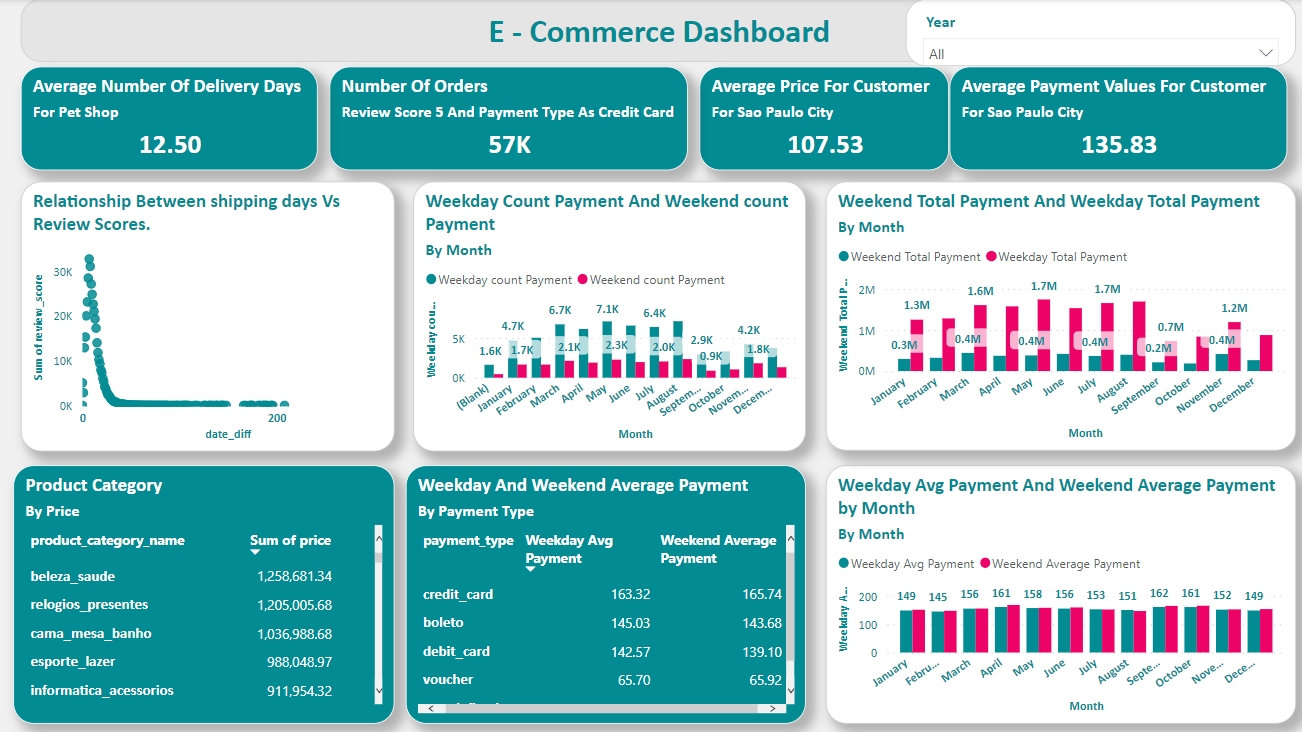

Layout of this report page (visuals, bound fields, positions):
{"tool":"tableau","page":{"name":"Dashboard","canvas":[1000,1000],"units":"permille","ordinal":0},"visuals":[{"type":"image","param":"C:/Users/harsh/Downloads/360_F_508881346_Y8NPkWuFIspsIucnv2mn43U8FcLxL3XB.jpg","box":[6,11.8,987.9,976.4]},{"type":"text","box":[25.7,30.9,677,70.7]},{"type":"legend","title":"Number of Orders with review score 5 and payment type as credit card.","param":"[federated.0kb4xcv0bs3o0s12nhn910ljtiwo].[cnt:order_id (3. olist!order!reviews!d","box":[859.6,33.9,127.5,111.9]},{"type":"worksheet","title":"Weekday Vs Weekend (order_purchase_timestamp) Payment Statistics","mark":"Automatic","rows":["Weekdays/Weekends"],"cols":["payment_value"],"box":[24.9,107.5,332.8,332.8]},{"type":"worksheet","title":"Relationship between shipping days (order_delivered_customer_date - order_purchase_timestamp) Vs review scores.","mark":"Bar","rows":["order_estimated_delivery_date","order_purchase_timestamp","order_purchase_timestamp","order_purchase_timestamp"],"cols":["review_score"],"box":[362.3,111.9,493.6,508.1]},{"type":"filter","title":"Number of Orders with review score 5 and payment type as credit card.","param":"[federated.0kb4xcv0bs3o0s12nhn910ljtiwo].[none:payment_type:nk]","box":[860.4,153.2,125.3,237.1]},{"type":"filter","title":"Relationship between shipping days (order_delivered_customer_date - order_purchase_timestamp) Vs review scores.","param":"[federated.0kb4xcv0bs3o0s12nhn910ljtiwo].[mn:order_estimated_delivery_date:ok]","box":[860.4,397.6,125.3,220.9]},{"type":"worksheet","title":"Average number of days taken for order_delivered_customer_date for pet_shop","mark":"Bar","rows":["order_delivered_customer_date"],"cols":["product_category_name","price"],"box":[26.4,452.1,330.6,512.5]},{"type":"worksheet","title":"Average price and payment values from customers of sao paulo city","mark":"Automatic","rows":["payment_type","payment_value"],"cols":["customer_city"],"box":[363.8,630.3,332.8,332.8]},{"type":"worksheet","title":"Number of Orders with review score 5 and payment type as credit card.","mark":"Square","rows":["payment_type"],"box":[702.6,630.3,281.5,332.8]}]}

Visuals, with their boxes on the dashboard's canvas, which has no fixed pixel size, in thousandths of its width and height (x1, y1, x2, y2). These are canvas units, not pixel positions in the 1302x732 screenshot, which may show the page scaled, cropped or inside an application window:
image: 6, 12, 994, 988
text: 26, 31, 703, 102
"Number of Orders with review score 5 and payment type as credit card." legend: 860, 34, 987, 146
"Weekday Vs Weekend (order_purchase_timestamp) Payment Statistics" worksheet: 25, 108, 358, 440
"Relationship between shipping days (order_delivered_customer_date - order_purchase_timestamp) Vs review scores." worksheet (Bar marks): 362, 112, 856, 620
"Number of Orders with review score 5 and payment type as credit card." filter: 860, 153, 986, 390
"Relationship between shipping days (order_delivered_customer_date - order_purchase_timestamp) Vs review scores." filter: 860, 398, 986, 618
"Average number of days taken for order_delivered_customer_date for pet_shop" worksheet (Bar marks): 26, 452, 357, 965
"Average price and payment values from customers of sao paulo city" worksheet: 364, 630, 697, 963
"Number of Orders with review score 5 and payment type as credit card." worksheet (Square marks): 703, 630, 984, 963
